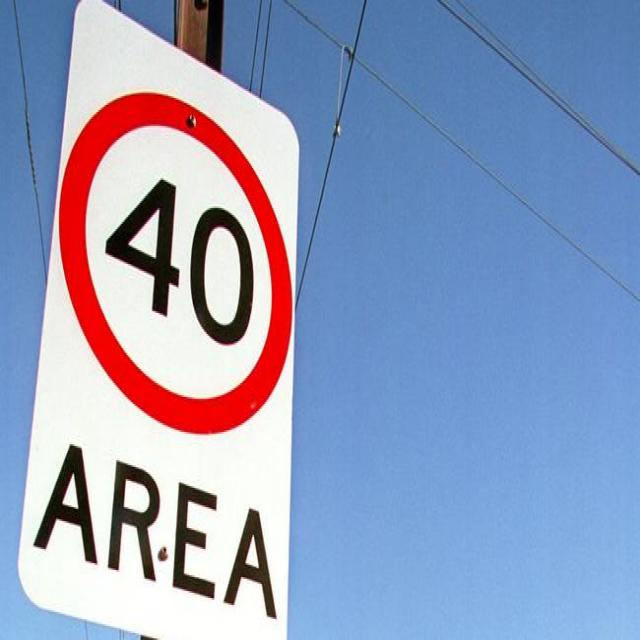speed limit 40: (54, 89, 296, 448)
